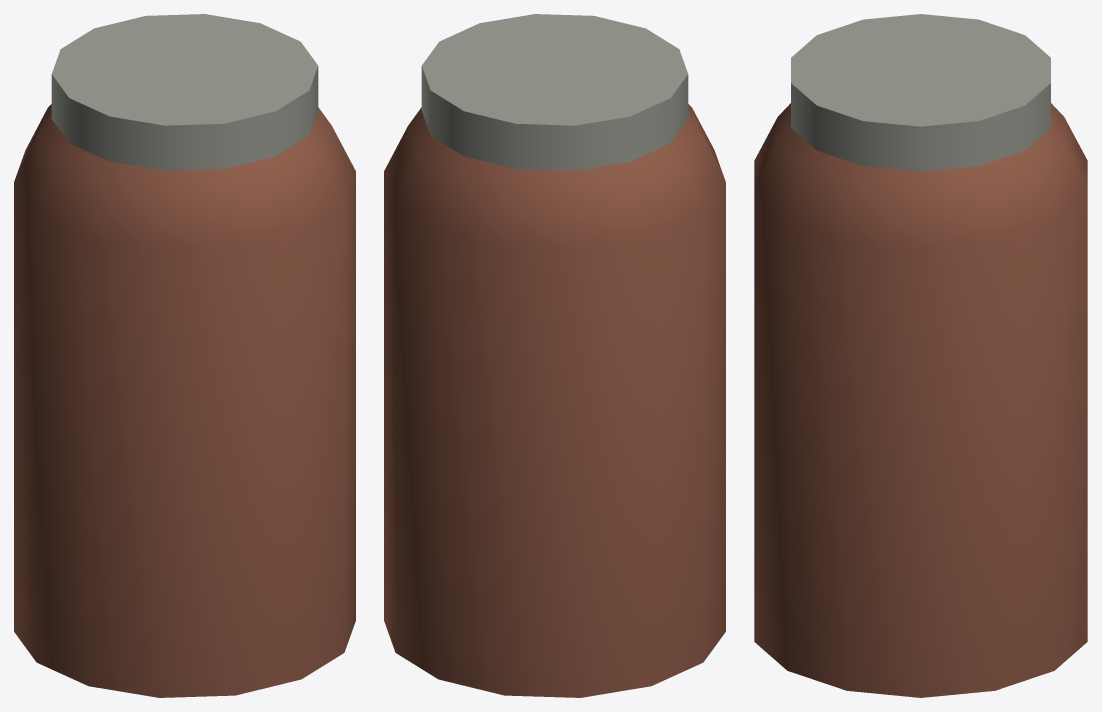
Rendered from tpl_dispensa_vaso_l_fagioli_giuseppe.glb.
The picture shows the model from 3 angles, left to right: view 1: azimuth 30°, elevation 25°; view 2: azimuth 150°, elevation 25°; view 3: azimuth 270°, elevation 25°; orthographic projection.
Visible parts, largest first — view 1: tpl_dispensa_vaso_l_fagioli_giuseppe; view 2: tpl_dispensa_vaso_l_fagioli_giuseppe; view 3: tpl_dispensa_vaso_l_fagioli_giuseppe.
Boxes of the visible parts, <box> form: tpl_dispensa_vaso_l_fagioli_giuseppe: <box>14,14,355,697</box>; tpl_dispensa_vaso_l_fagioli_giuseppe: <box>384,14,725,697</box>; tpl_dispensa_vaso_l_fagioli_giuseppe: <box>754,14,1087,697</box>.
Size of the model in its own units: 0.14 by 0.2509 by 0.1365.
